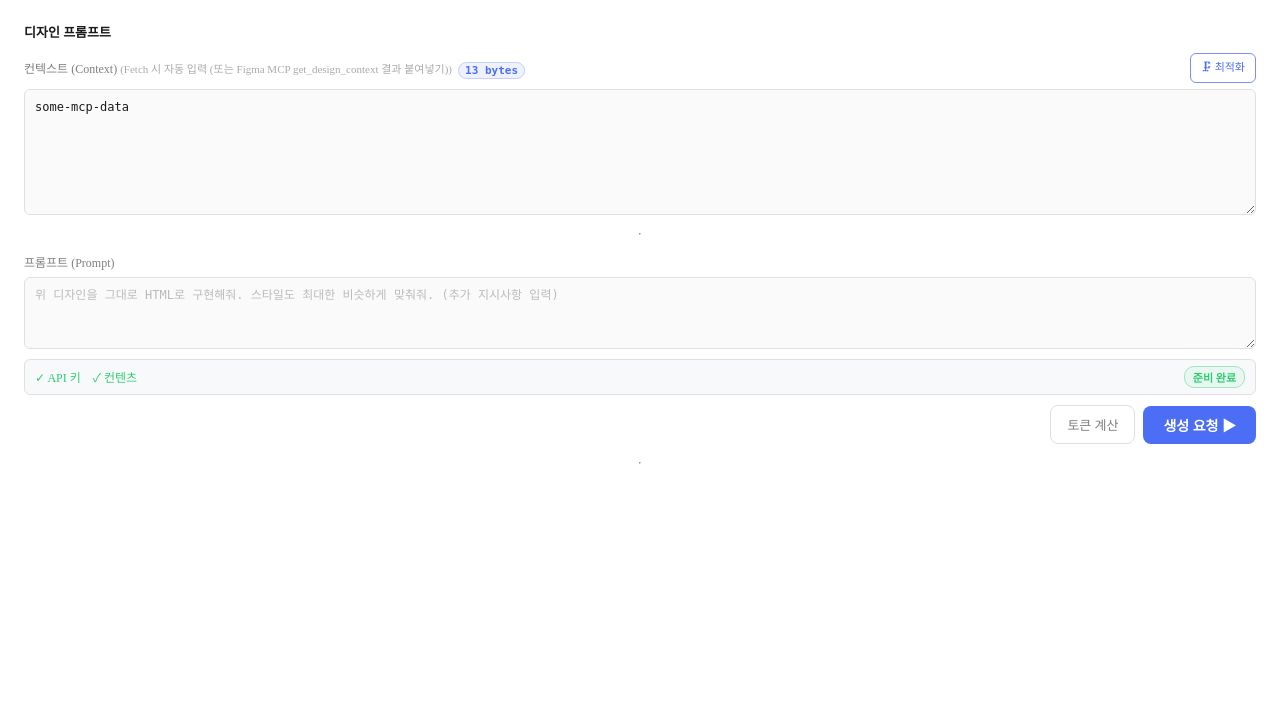
it: InputPanel › submits data to Gemini API and displays success result
This screenshot has width=1280, height=720.
Click the button "생성 요청 ▶" at (1200, 424), box x1=1144 y1=406 x2=1256 y2=444
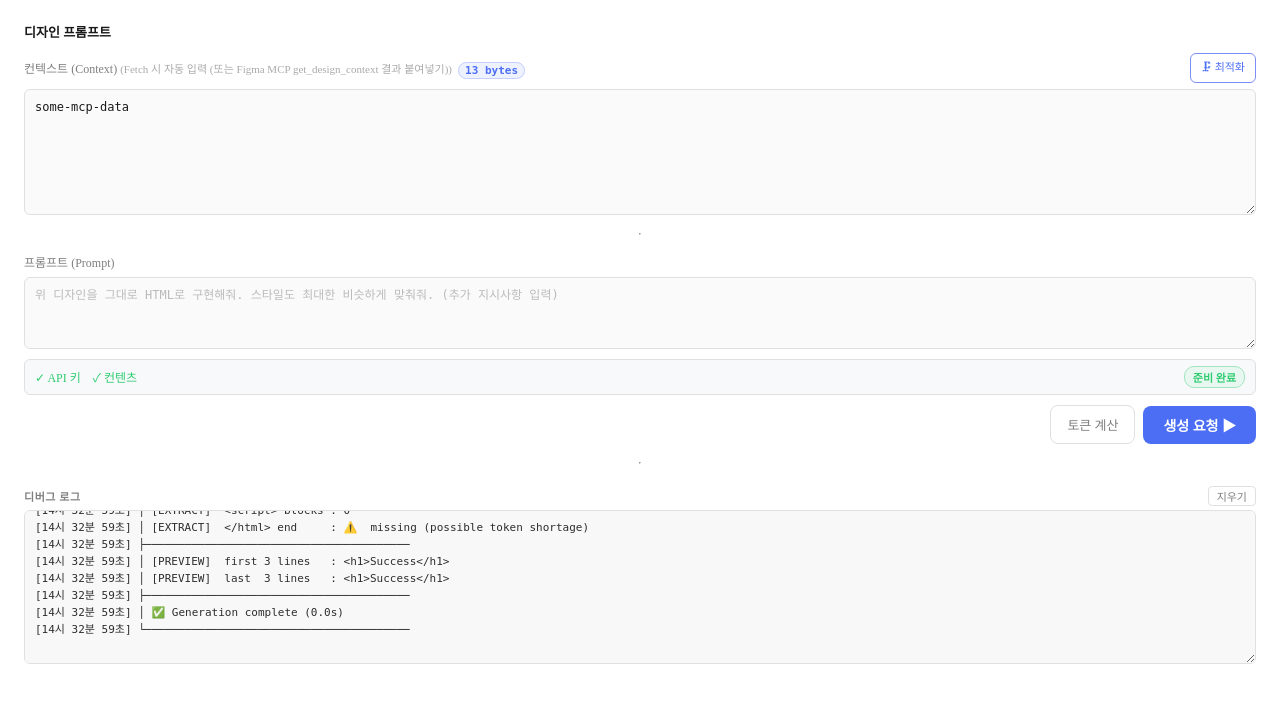
Expected: the text box "디버그 로그" is shown, x1=24 y1=510 x2=1256 y2=664
